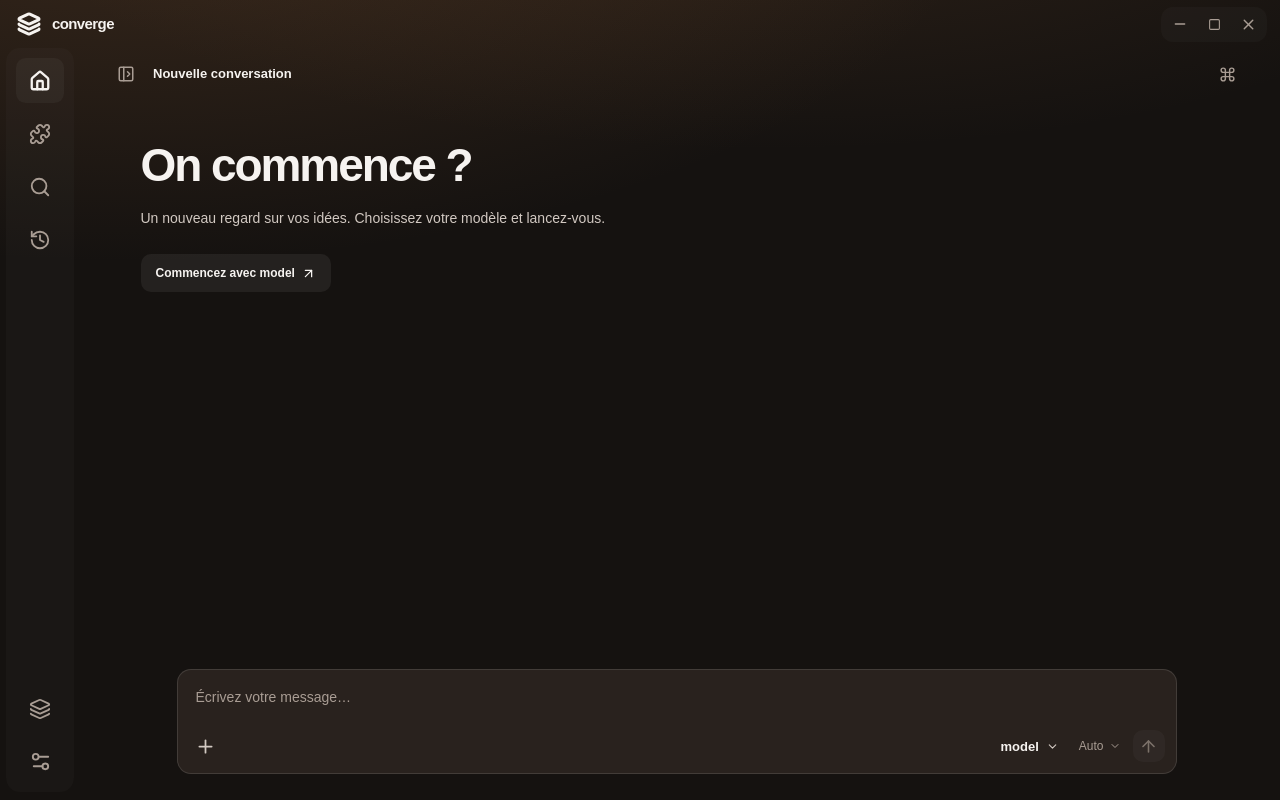
it: never executes or asks the model for further actions after refusal
In the text box labelled "votre message": (676, 698) [178,670,1176,726], type "Crée hello.txt avec hello"
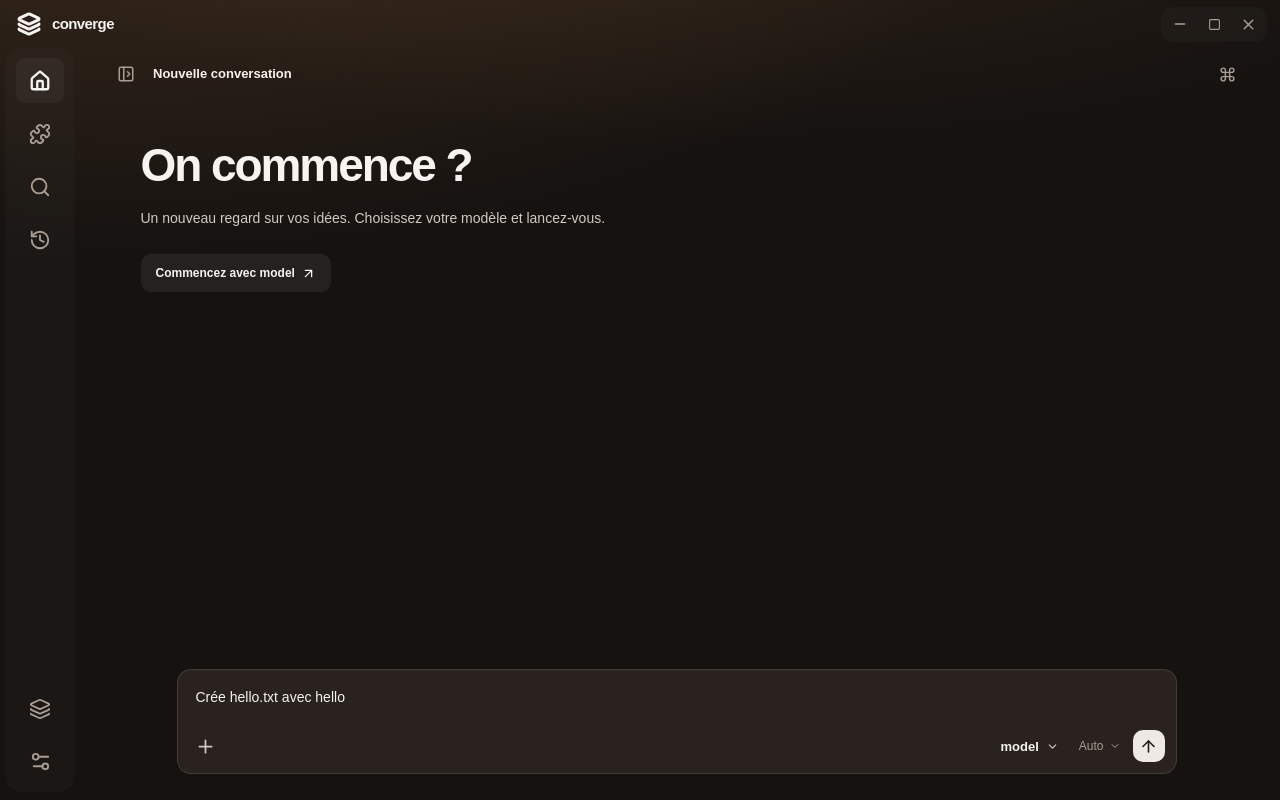
Click the button named "Envoyer": (1148, 746) [1132,730,1164,762]
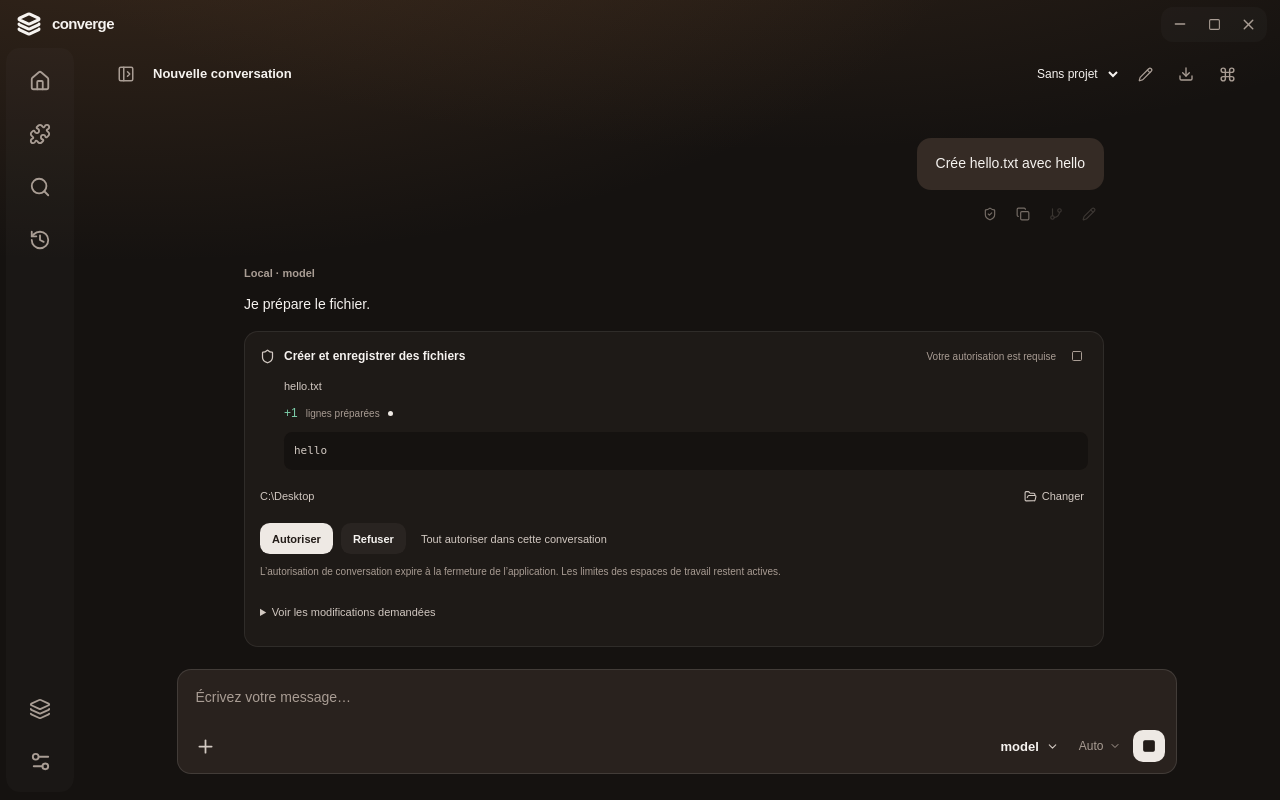
Expected: the button "Autoriser" is shown, [260,523,332,554]
Click the button "Refuser": (373, 539) [340,523,405,554]
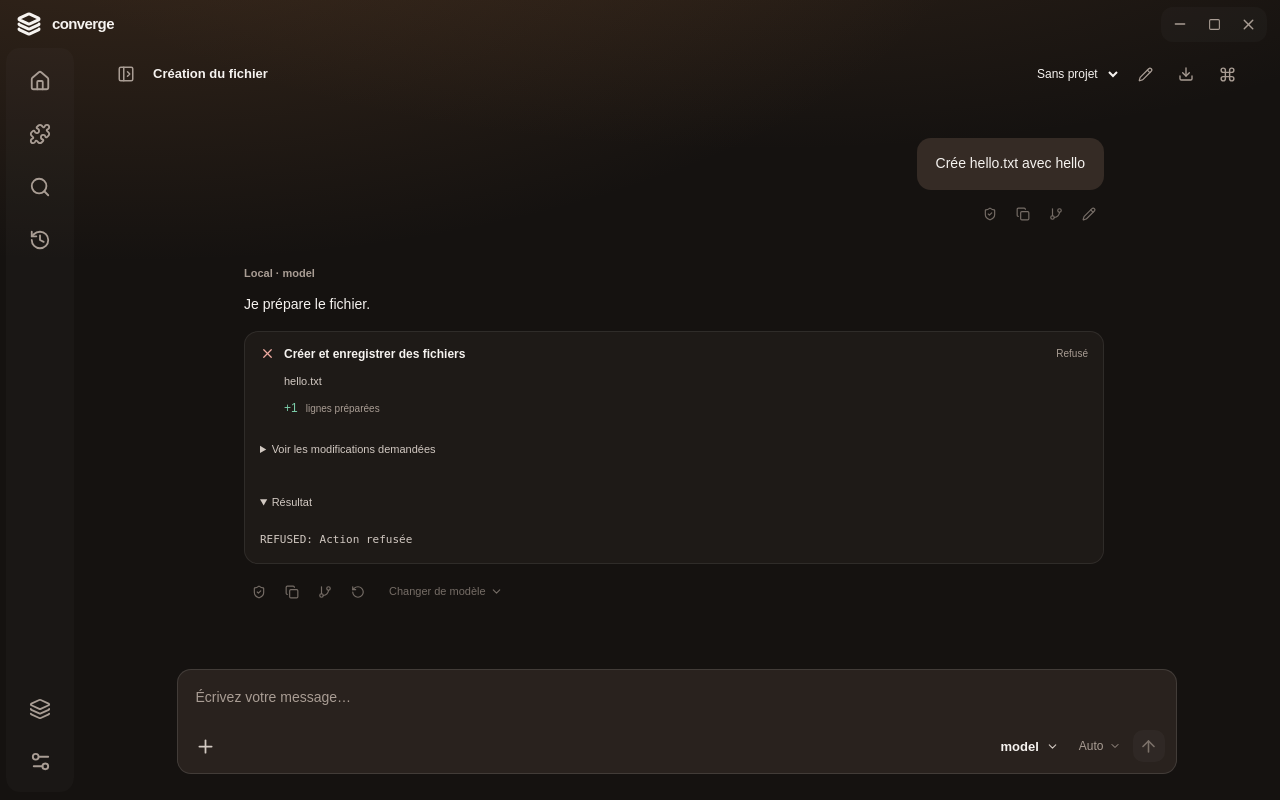
Expected: the text "Refusé" is shown, [1056,346,1088,361]
